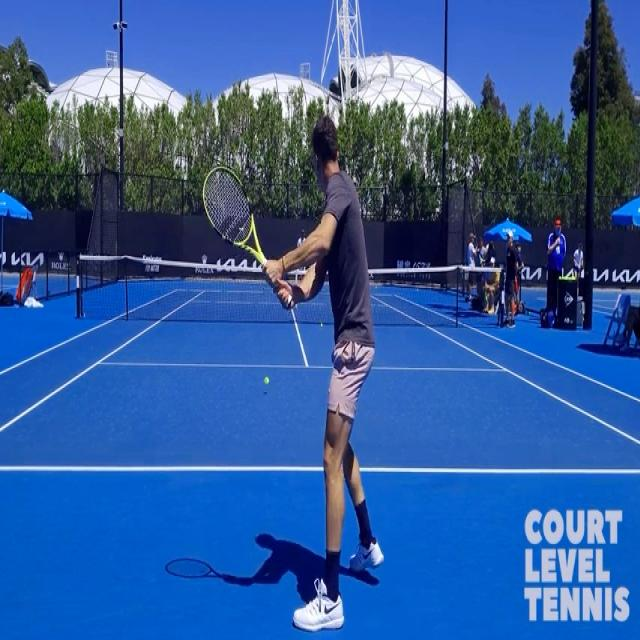backhand-ready: (199, 103, 400, 625)
